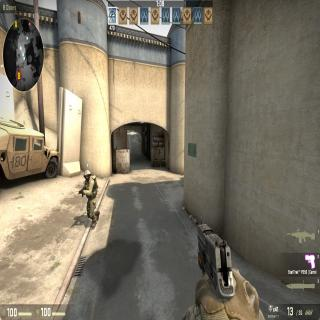CT-Body: (82, 168, 99, 226)
CT-Head: (84, 168, 90, 180)
